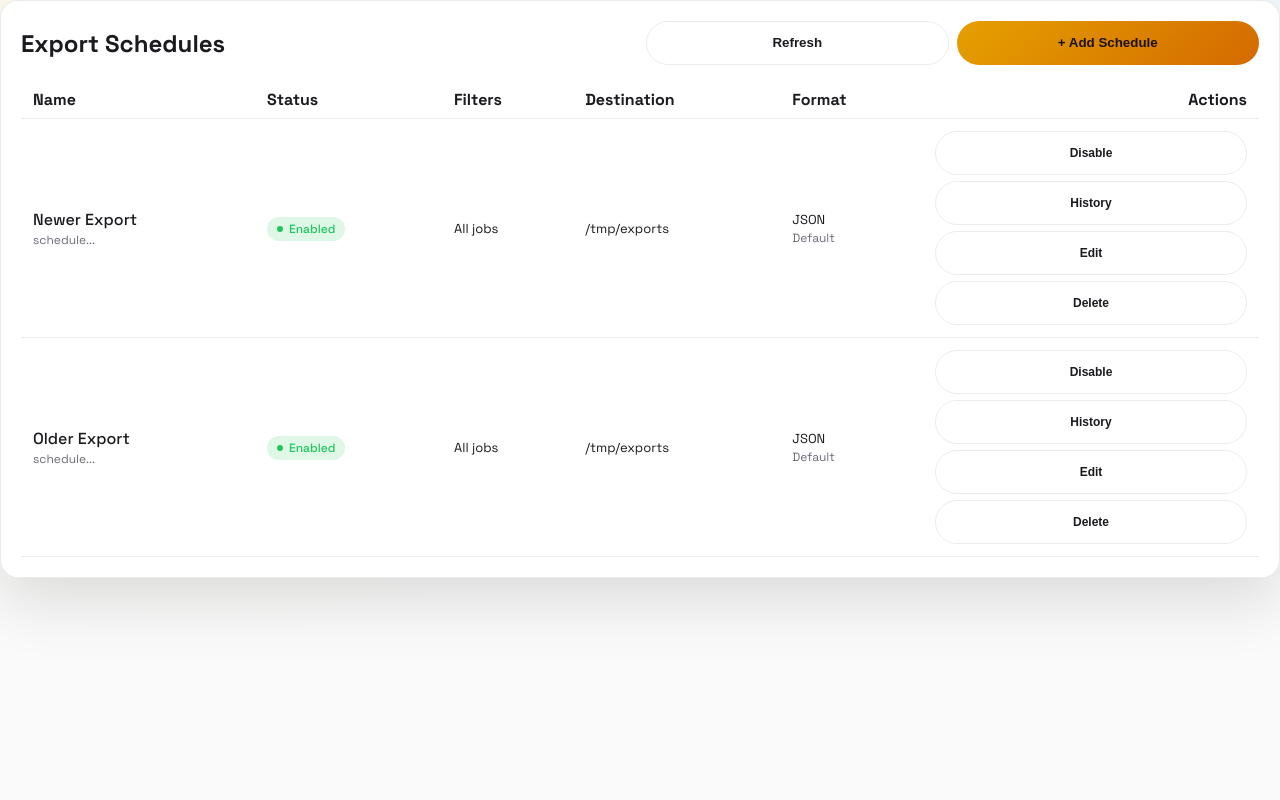
ExportScheduleManager › ignores stale earlier export-history responses when the operator switches rows
Click the button "History" in the row of "Older Export": x=1091, y=422 [935,400,1247,444]
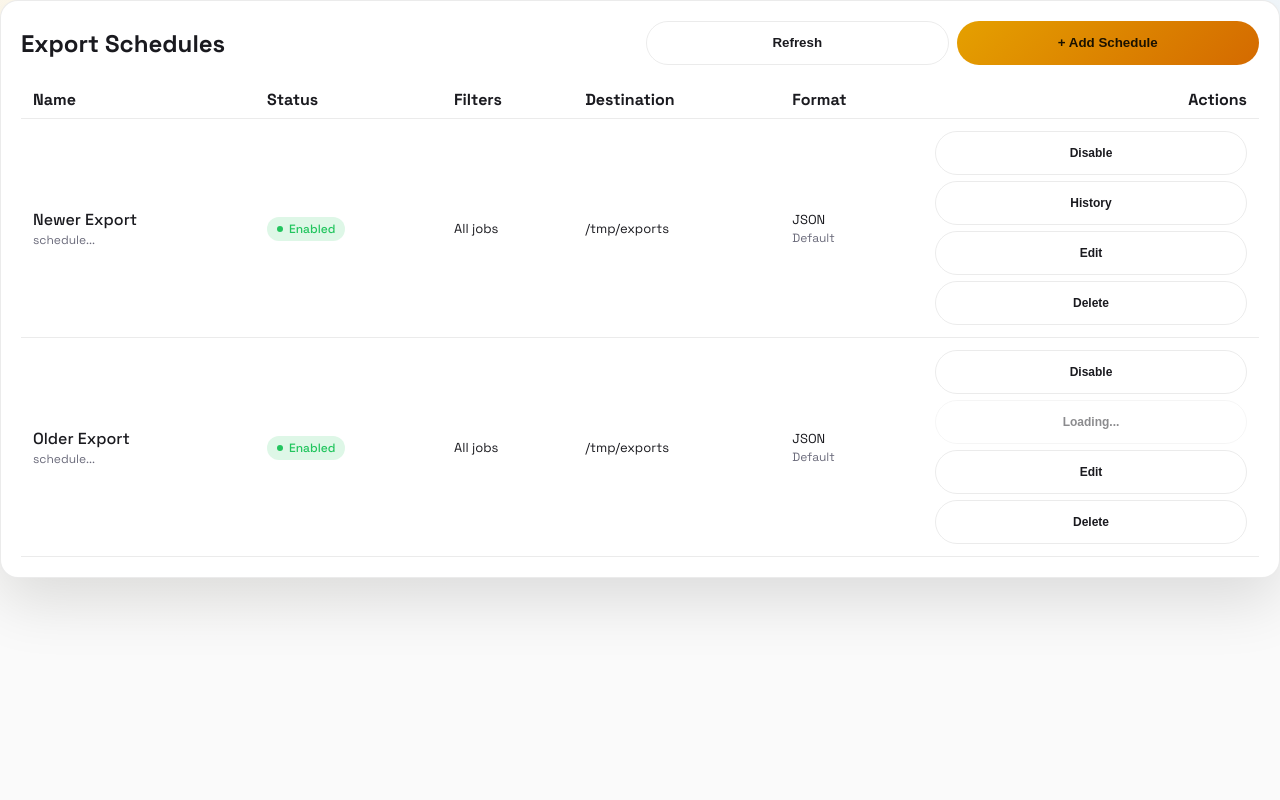
Click the button "History": x=1091, y=203 [935,181,1247,225]
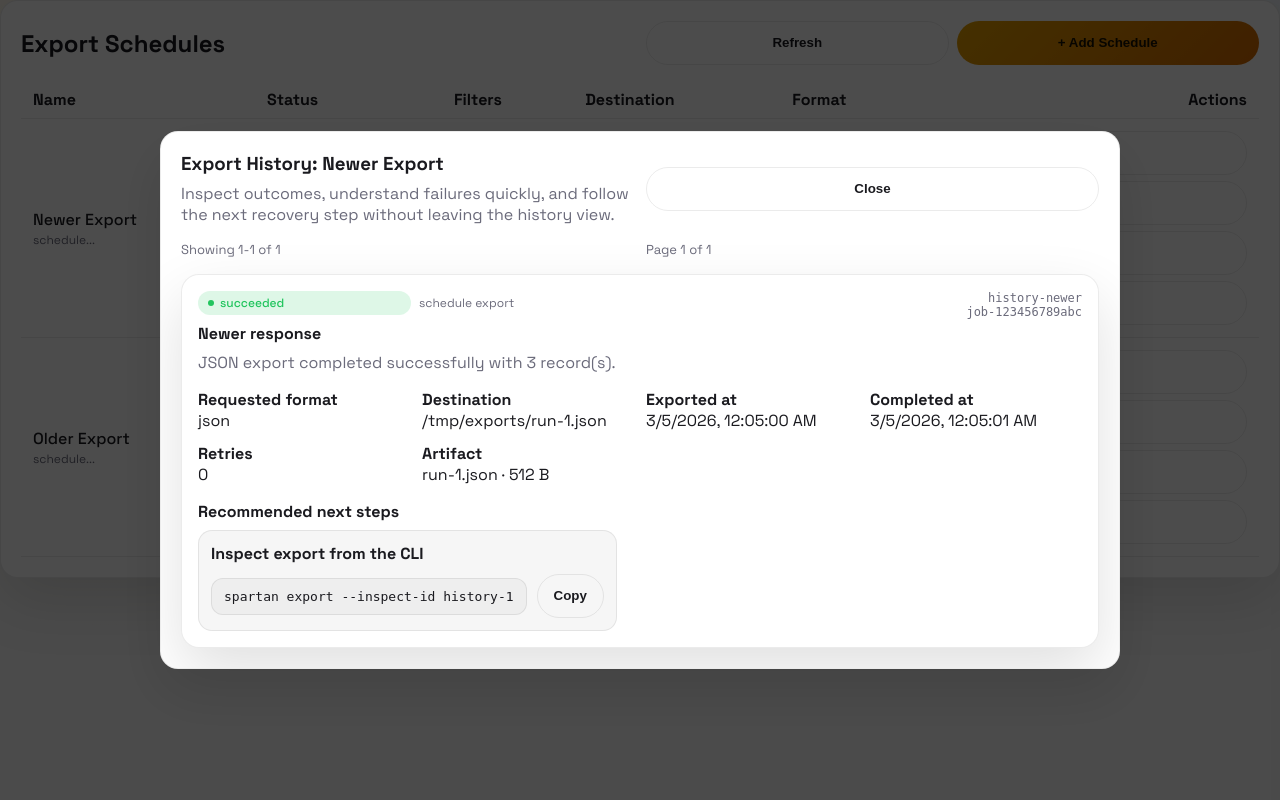
Result: the heading "Export History: Newer Export" is shown at [181,152,444,175]
Result: the heading "Newer response" is shown at [198,323,321,344]
